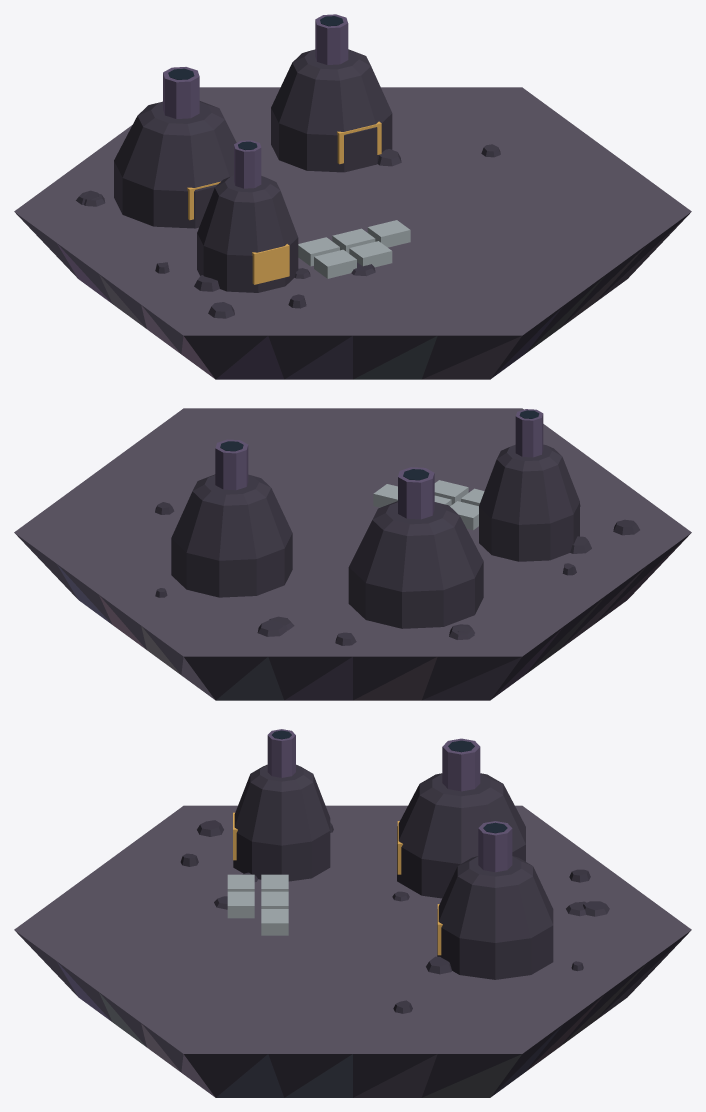
Rendered from space_tile_clay.glb.
3 views of the same model, one above another, from view 1: azimuth 30°, elevation 25°; view 2: azimuth 150°, elevation 25°; view 3: azimuth 270°, elevation 25° (orthographic).
Parts seen in each view (by area): view 1: FixedDetails, BrassTrim; view 2: FixedDetails; view 3: FixedDetails, BrassTrim.
Part boxes in pixels (<box>): FixedDetails: <box>14,14,691,379</box>; BrassTrim: <box>187,121,381,284</box>; FixedDetails: <box>14,408,691,700</box>; FixedDetails: <box>14,729,691,1097</box>; BrassTrim: <box>233,812,442,955</box>.
Size of the model in its own units: 1.73 by 0.631 by 2.
